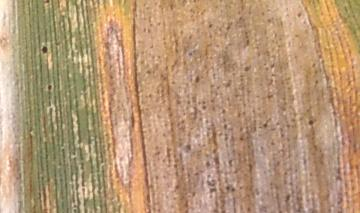tarspot: (305, 118, 317, 127), (192, 74, 202, 84), (40, 45, 49, 54), (207, 22, 215, 31), (46, 83, 53, 93), (296, 11, 304, 18), (224, 185, 232, 191), (231, 187, 237, 194), (44, 1, 53, 5)
